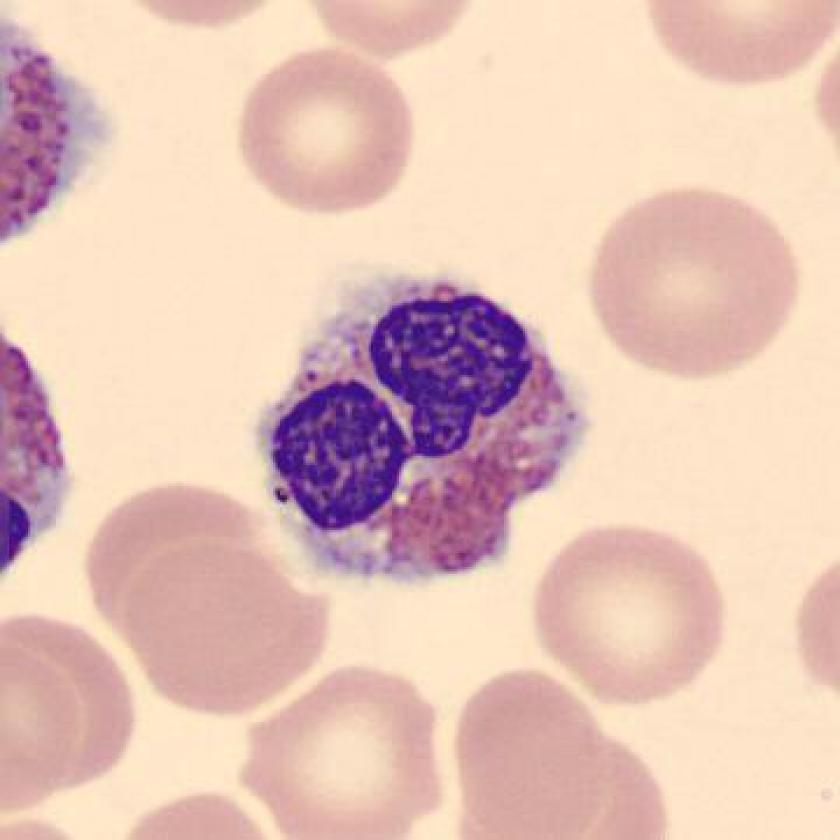eosinophil: (244, 249, 603, 603)
